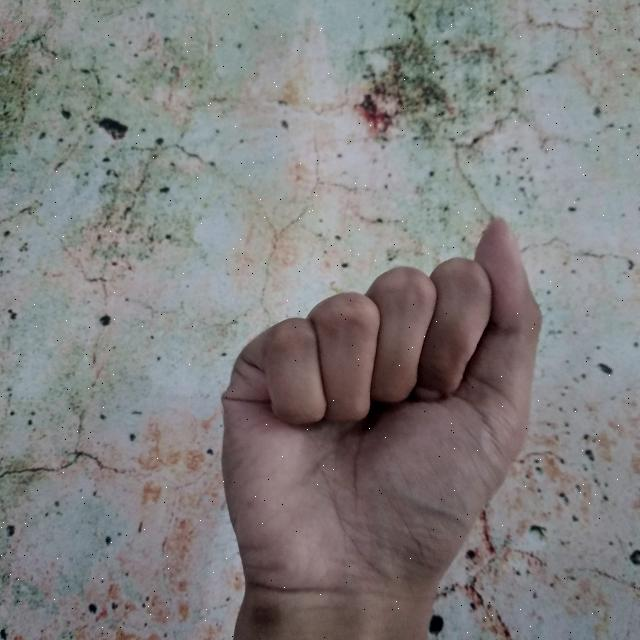A: (212, 209, 557, 640)
